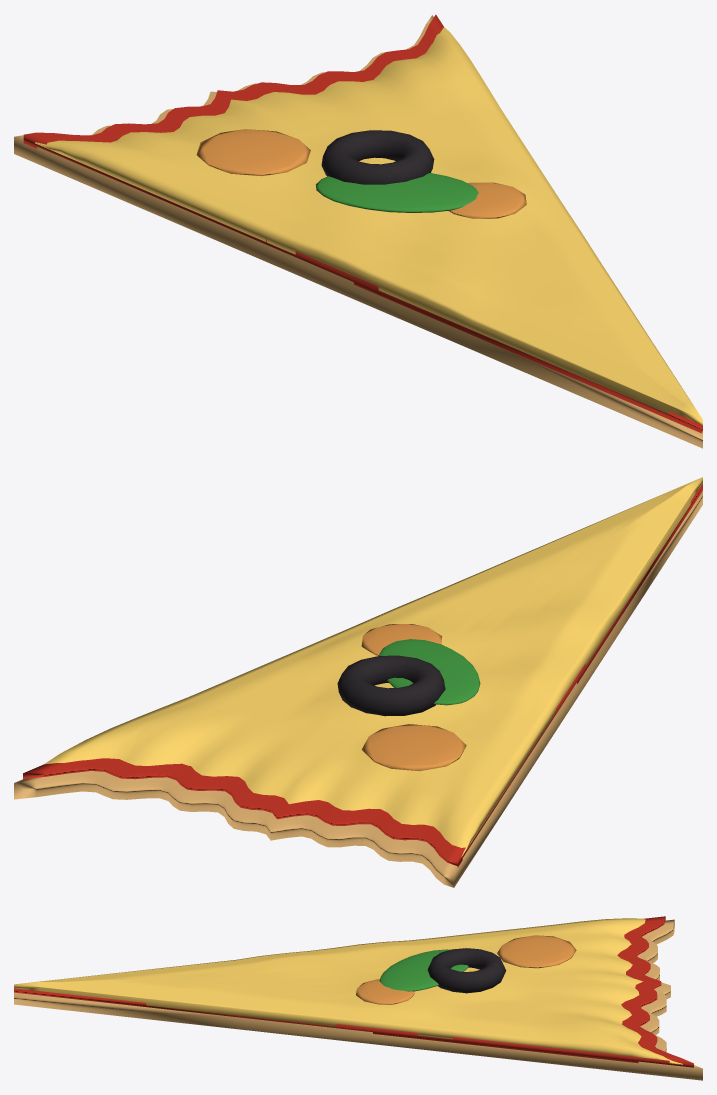
Rendered from EatsaPizzaSlice3.obj.
The picture shows the model from 3 angles, top to bottom: view 1: azimuth 30°, elevation 25°; view 2: azimuth 150°, elevation 25°; view 3: azimuth 270°, elevation 25°; orthographic projection. The views are drawn at different scales.
Visible parts, largest first — view 1: Cheese, Dough, Sauce, Toasty, Olives, Basil; view 2: Cheese, Dough, Sauce, Toasty, Olives, Basil; view 3: Cheese, Dough, Sauce, Toasty, Olives, Basil.
Part boxes in pixels (left/top/right/bottom): Cheese: left=35, top=27, right=702, bottom=425; Dough: left=14, top=15, right=702, bottom=448; Sauce: left=23, top=14, right=702, bottom=433; Toasty: left=196, top=129, right=526, bottom=218; Olives: left=321, top=130, right=434, bottom=184; Basil: left=315, top=173, right=478, bottom=212; Cheese: left=44, top=477, right=702, bottom=856; Dough: left=14, top=490, right=702, bottom=887; Sauce: left=23, top=483, right=702, bottom=867; Toasty: left=361, top=624, right=466, bottom=771; Olives: left=337, top=655, right=445, bottom=716; Basil: left=379, top=639, right=480, bottom=705; Cheese: left=14, top=918, right=682, bottom=1064; Dough: left=14, top=919, right=702, bottom=1080; Sauce: left=14, top=916, right=693, bottom=1067; Toasty: left=356, top=935, right=576, bottom=1004; Olives: left=427, top=948, right=506, bottom=993; Basil: left=379, top=949, right=468, bottom=991.
Size of the model in its own units: 3.74 by 0.515 by 7.31.
